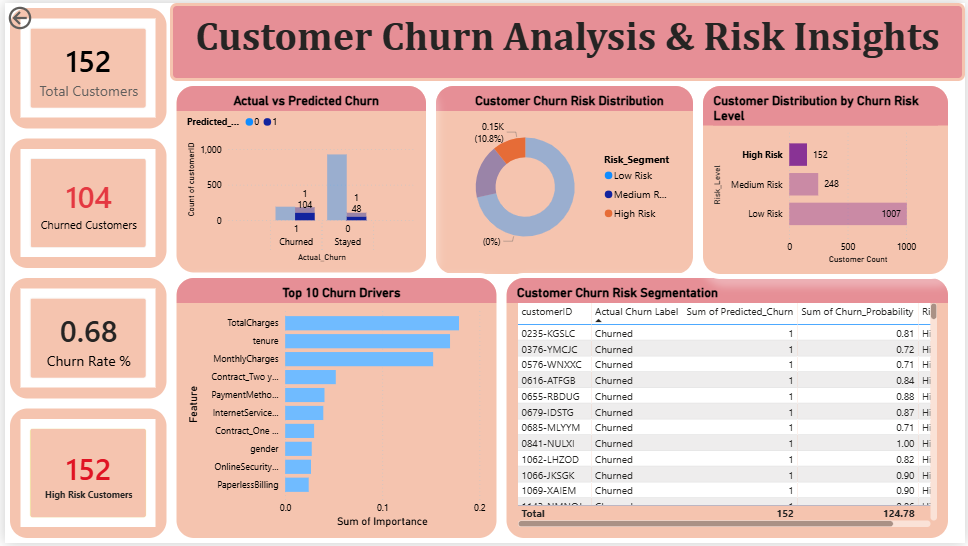

This screenshot's page, from the dashboard's own definition file:
{"tool":"powerbi","page":{"name":"Executive Dashboard","canvas":[1280,720],"ordinal":0},"visuals":[{"type":"cardVisual","fields":{"Data":["churn_predictions.Total Customers"]},"box":[0,0,222,174],"z":0},{"type":"cardVisual","fields":{"Data":["churn_predictions.Churned Customers"]},"box":[0,174,222,186],"z":1000},{"type":"cardVisual","fields":{"Data":["churn_predictions.Churn Rate %"]},"box":[0,360,222,174],"z":2000},{"type":"donutChart","title":"Customer Churn Risk Distribution","fields":{"Category":["churn_predictions.Risk_Segment"],"Y":["CountNonNull(churn_predictions.customerID)"]},"box":[568,104,356,264],"z":3000},{"type":"clusteredColumnChart","title":"Actual vs Predicted Churn","fields":{"Category":["churn_predictions.Actual Churn Label","churn_predictions.Actual_Churn"],"Y":["CountNonNull(churn_predictions.customerID)"],"Series":["churn_predictions.Predicted_Churn"]},"box":[222,104,346,262],"z":4000},{"type":"barChart","title":"Top 10 Churn Drivers","fields":{"Category":["feature_importance.Feature"],"Y":["Sum(feature_importance.Importance)"]},"box":[222,360,440,360],"z":5000},{"type":"tableEx","title":"Customer Churn Risk Segmentation","fields":{"Values":["churn_predictions.customerID","churn_predictions.Actual Churn Label","Sum(churn_predictions.Predicted_Churn)","Sum(churn_predictions.Churn_Probability)","churn_predictions.Risk_Level"]},"box":[662,360,602,360],"z":6000},{"type":"actionButton","box":[0,0,100,40],"z":7000},{"type":"clusteredBarChart","title":"Customer Distribution by Churn Risk Level","fields":{"Category":["churn_predictions.Risk_Level"],"Y":["churn_predictions.Customer Count"]},"box":[924,104,340,264],"z":8000},{"type":"cardVisual","fields":{"Data":["churn_predictions.High Risk Customers"]},"box":[0,534,222,186],"z":9000},{"type":"textbox","box":[220,0,1060,104],"z":10000}]}

Visuals, with their boxes on the page's 1280x720 design canvas (x1, y1, x2, y2). These are canvas units, not pixel positions in the 968x546 screenshot, which may show the page scaled, cropped or inside an application window:
cardVisual - churn_predictions.Total Customers: 0,0,222,174
cardVisual - churn_predictions.Churned Customers: 0,174,222,360
cardVisual - churn_predictions.Churn Rate %: 0,360,222,534
"Customer Churn Risk Distribution" donutChart: 568,104,924,368
"Actual vs Predicted Churn" clusteredColumnChart: 222,104,568,366
"Top 10 Churn Drivers" barChart: 222,360,662,720
"Customer Churn Risk Segmentation" tableEx: 662,360,1264,720
actionButton: 0,0,100,40
"Customer Distribution by Churn Risk Level" clusteredBarChart: 924,104,1264,368
cardVisual - churn_predictions.High Risk Customers: 0,534,222,720
textbox: 220,0,1280,104
